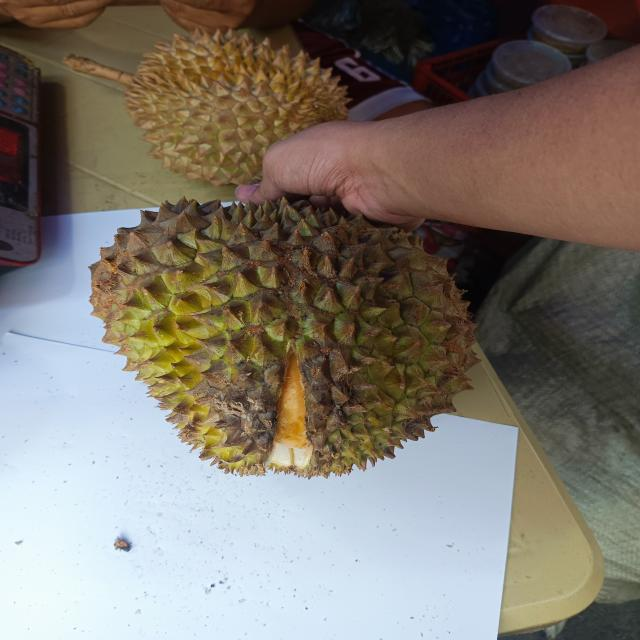defective: (84, 193, 478, 477)
mature: (121, 27, 351, 189)
